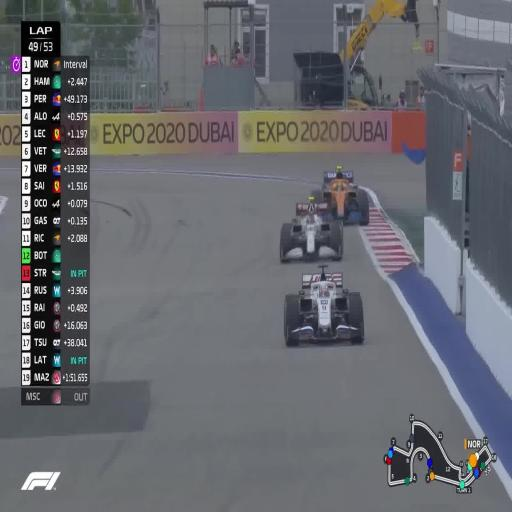f1_car: (284, 265, 364, 346), (279, 197, 343, 261), (311, 165, 369, 225)
